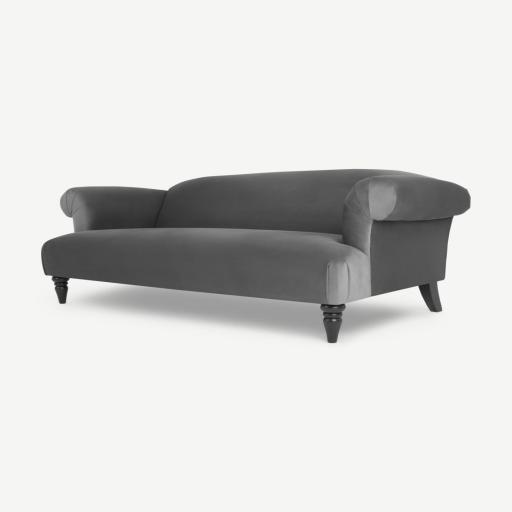back_cushion: (154, 169, 415, 234)
left_arm: (343, 210, 452, 295)
legs: (320, 304, 345, 343), (420, 283, 442, 312), (52, 277, 68, 303)
one-seater: (0, 0, 511, 512)
right_arm: (61, 187, 166, 232)
seat_cushion: (43, 228, 371, 303)
